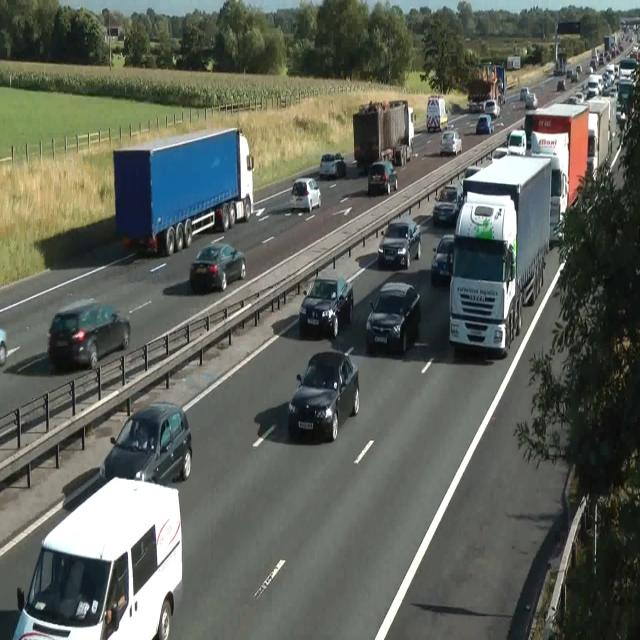bus: (288, 349, 360, 442), (189, 242, 246, 292), (377, 217, 421, 269), (433, 184, 461, 227), (430, 234, 454, 284), (289, 177, 321, 212), (368, 160, 398, 196), (461, 165, 482, 202), (318, 153, 346, 179), (440, 130, 462, 156), (507, 129, 527, 155), (476, 114, 494, 134), (484, 100, 500, 118), (524, 92, 538, 110), (463, 166, 481, 180), (468, 99, 484, 113), (0, 328, 6, 365), (492, 147, 508, 160), (520, 86, 530, 100), (557, 79, 565, 91)
jeep: (13, 475, 183, 638), (99, 400, 193, 485), (46, 297, 130, 370), (365, 281, 421, 354), (298, 274, 354, 338)
minibus: (448, 152, 552, 357), (113, 126, 254, 257), (493, 95, 615, 225), (352, 99, 414, 174), (566, 94, 616, 183), (466, 62, 506, 113), (426, 97, 448, 132), (553, 54, 567, 76), (604, 35, 618, 56), (507, 56, 521, 70)
